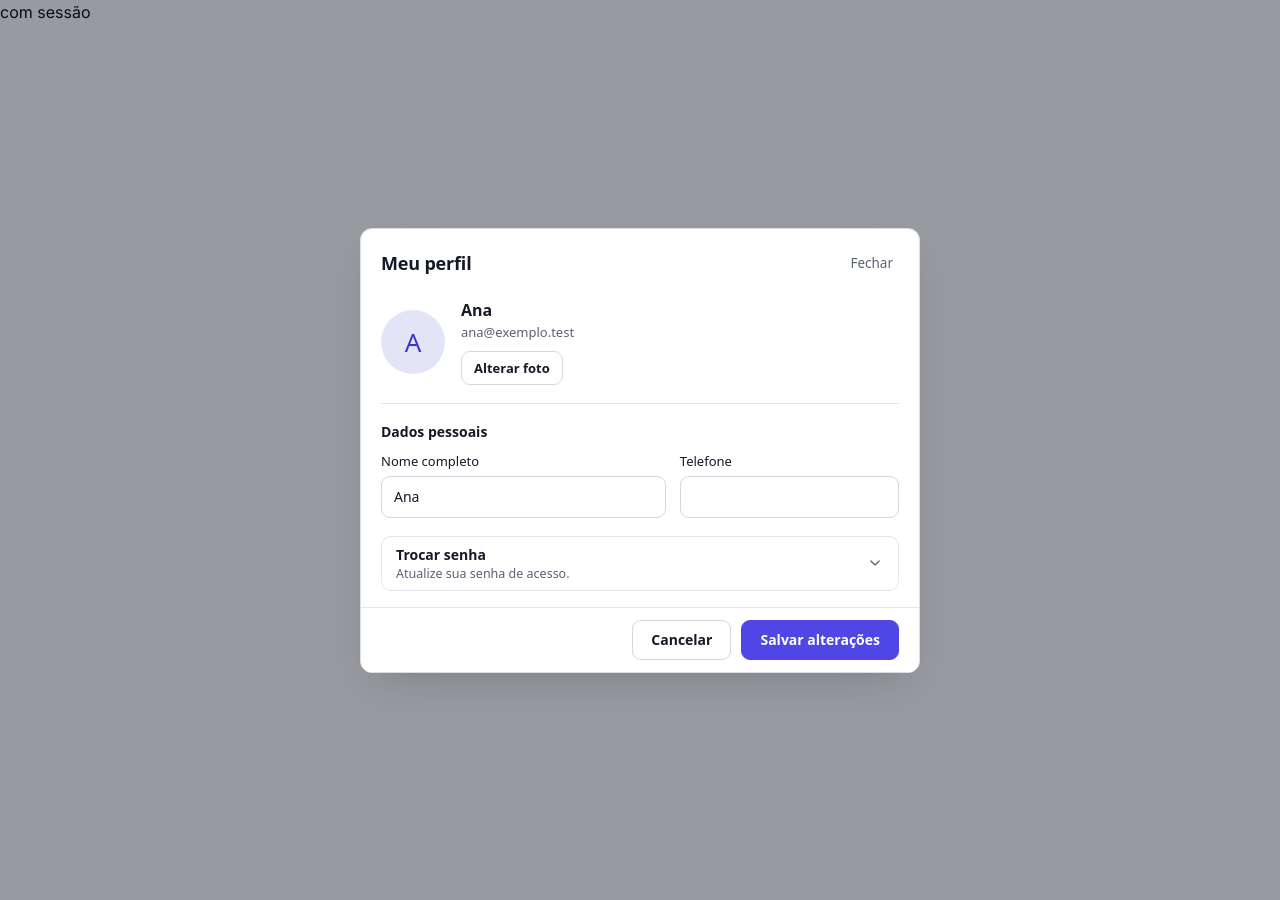
Scenario: trocar a senha com a senha atual errada (PRF-12) › mostra "A senha atual está incorreta." e a pessoa continua logada
The width and height of the screenshot is (1280, 900).
Check: the field showing "Ana" is shown, box [381,476,666,518]
Click the text "Atualize sua senha de acesso." at [483, 573], box [396,564,570,582]
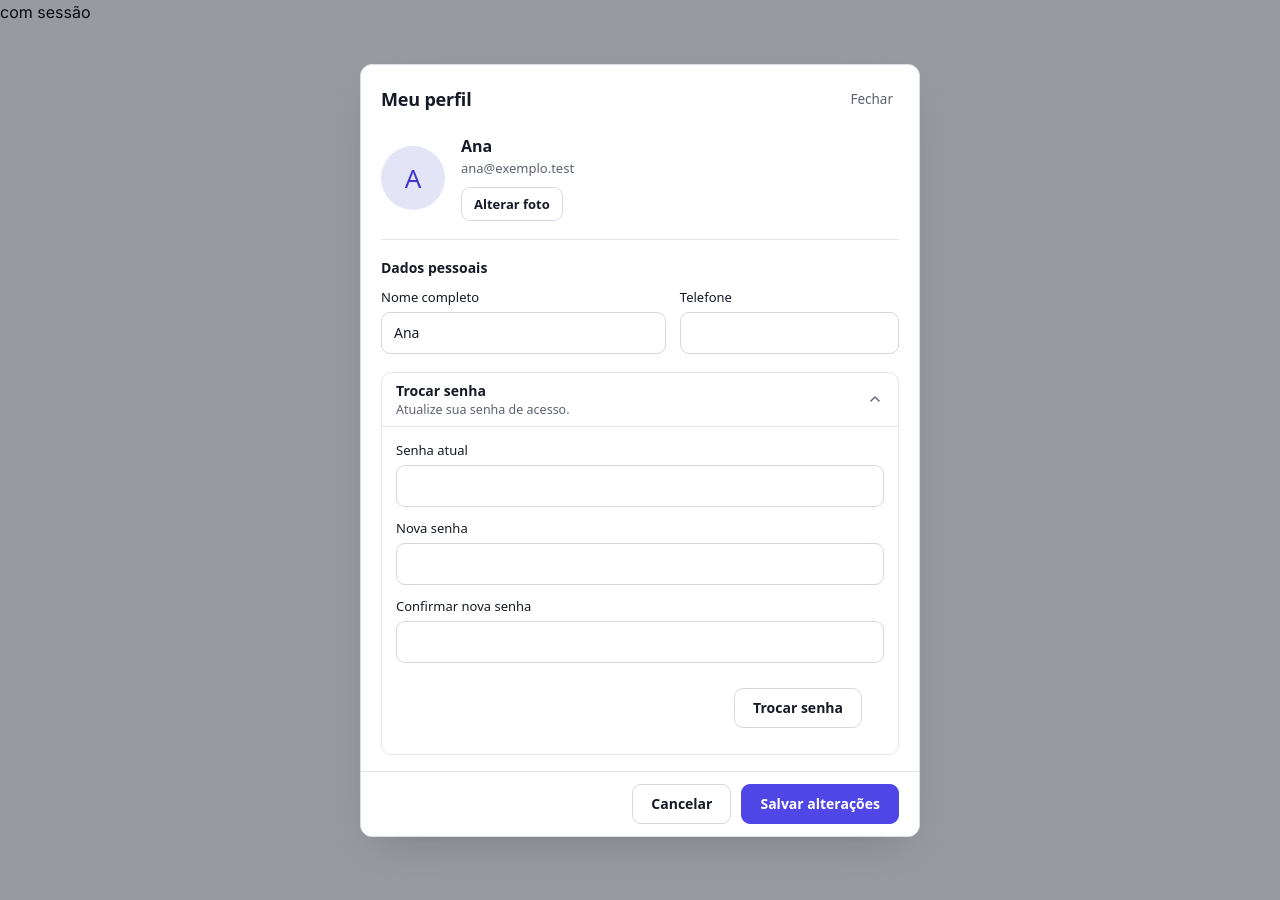
Type "errada123" into the password field labelled "Senha atual" at [640, 486], box [396,464,884,506]
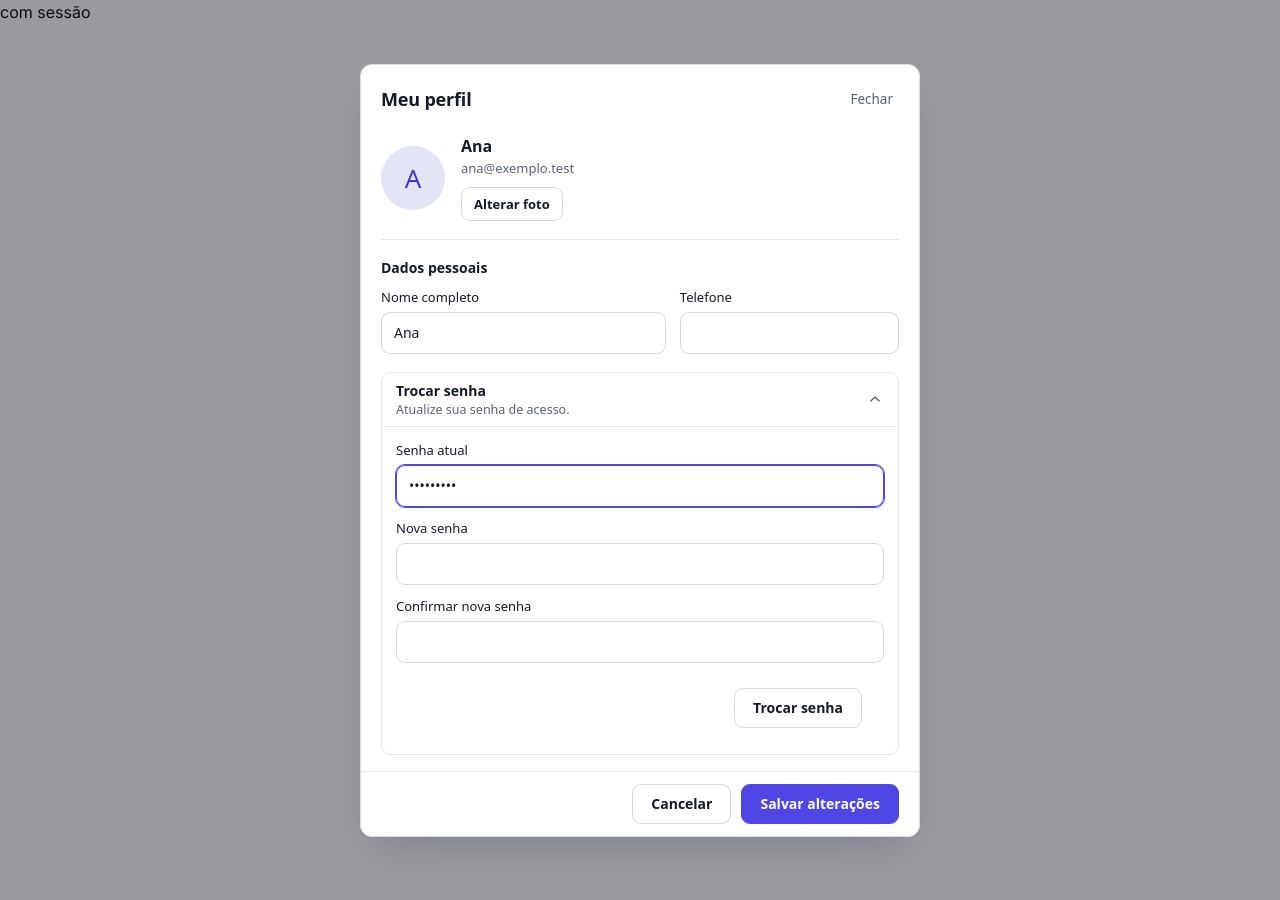
Type "nova12345" into the password field labelled "Nova senha" at [640, 564], box [396,542,884,584]
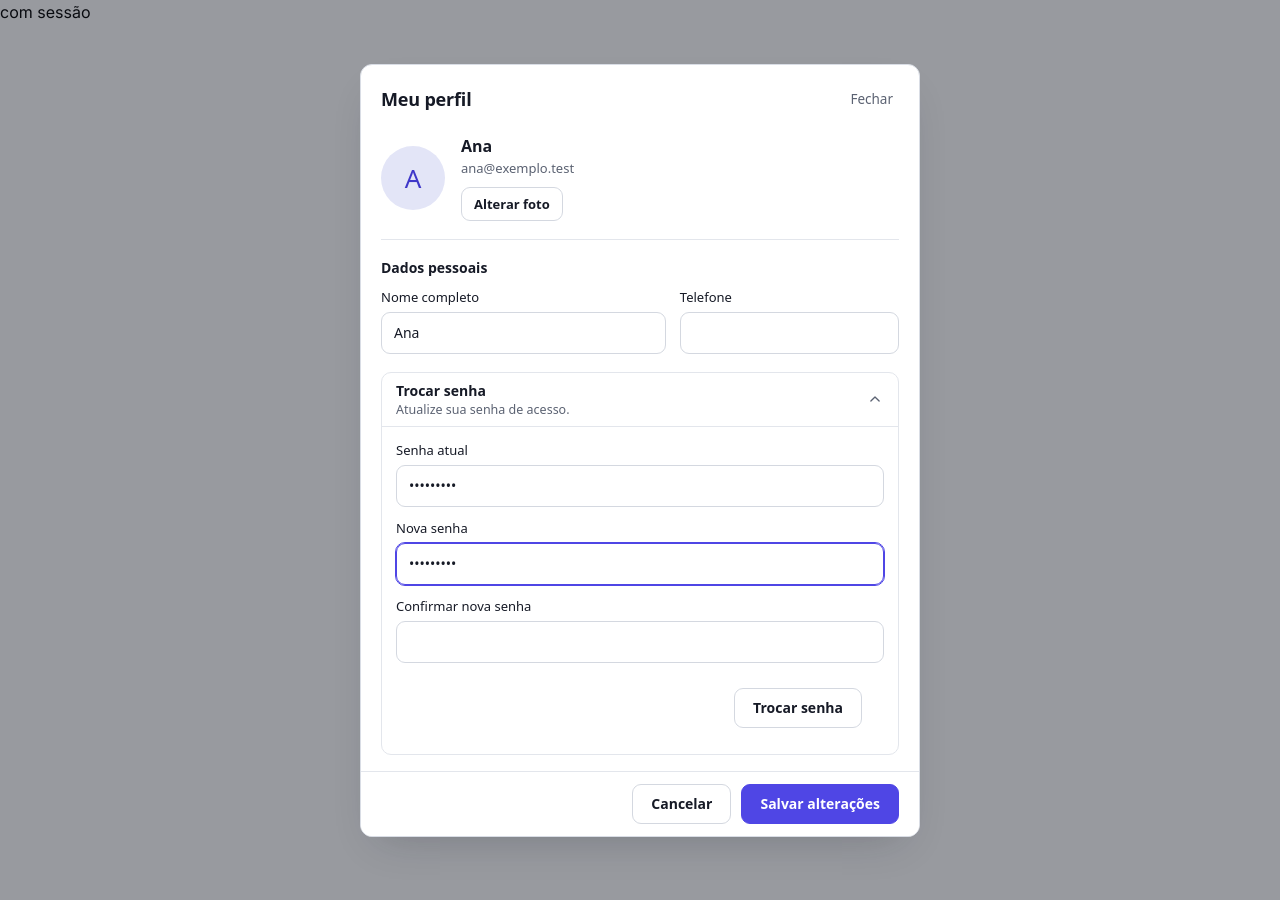
Type "nova12345" into the password field labelled "Confirmar nova senha" at [640, 642], box [396,620,884,662]
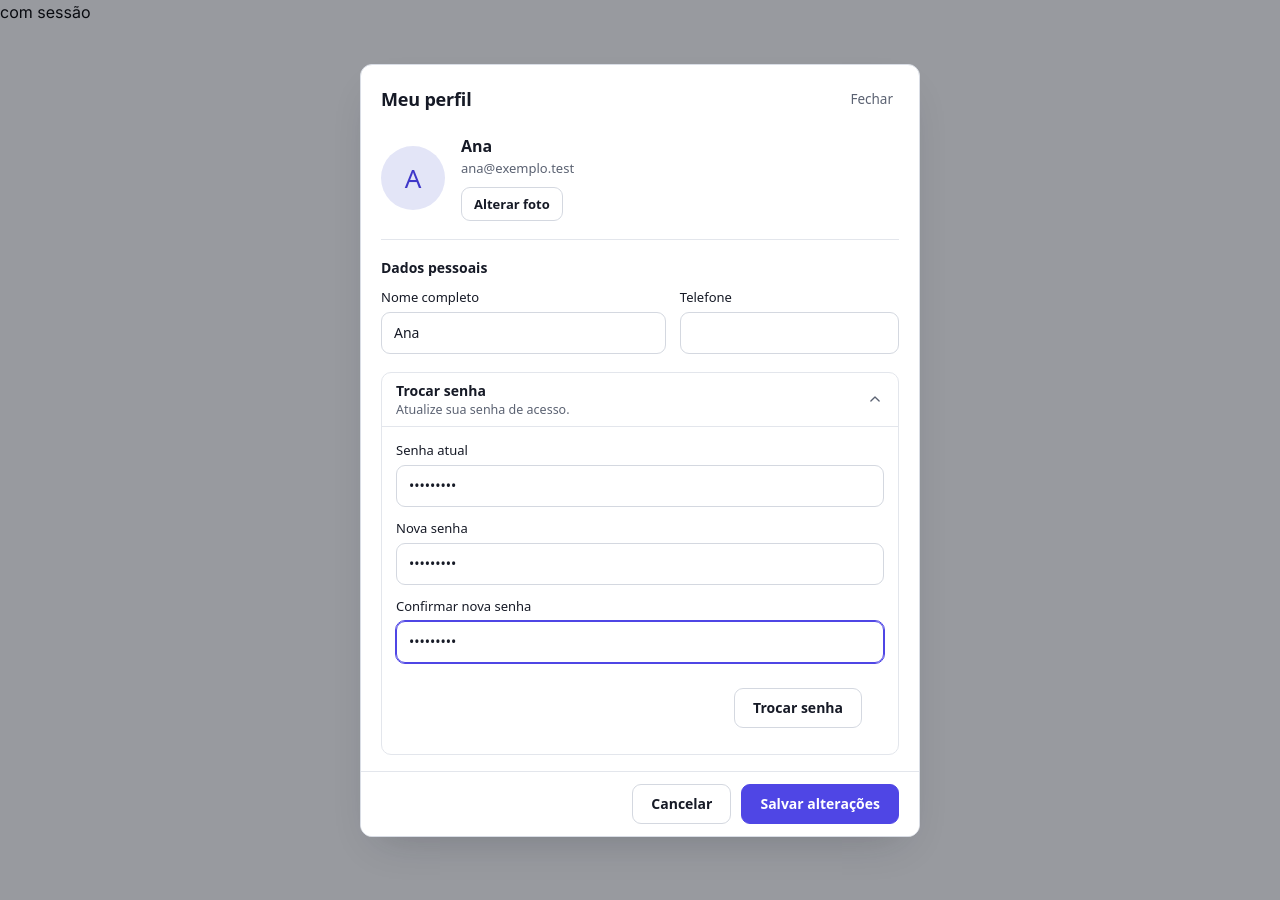
Click the button "Trocar senha" at [798, 708], box [734,688,862,728]
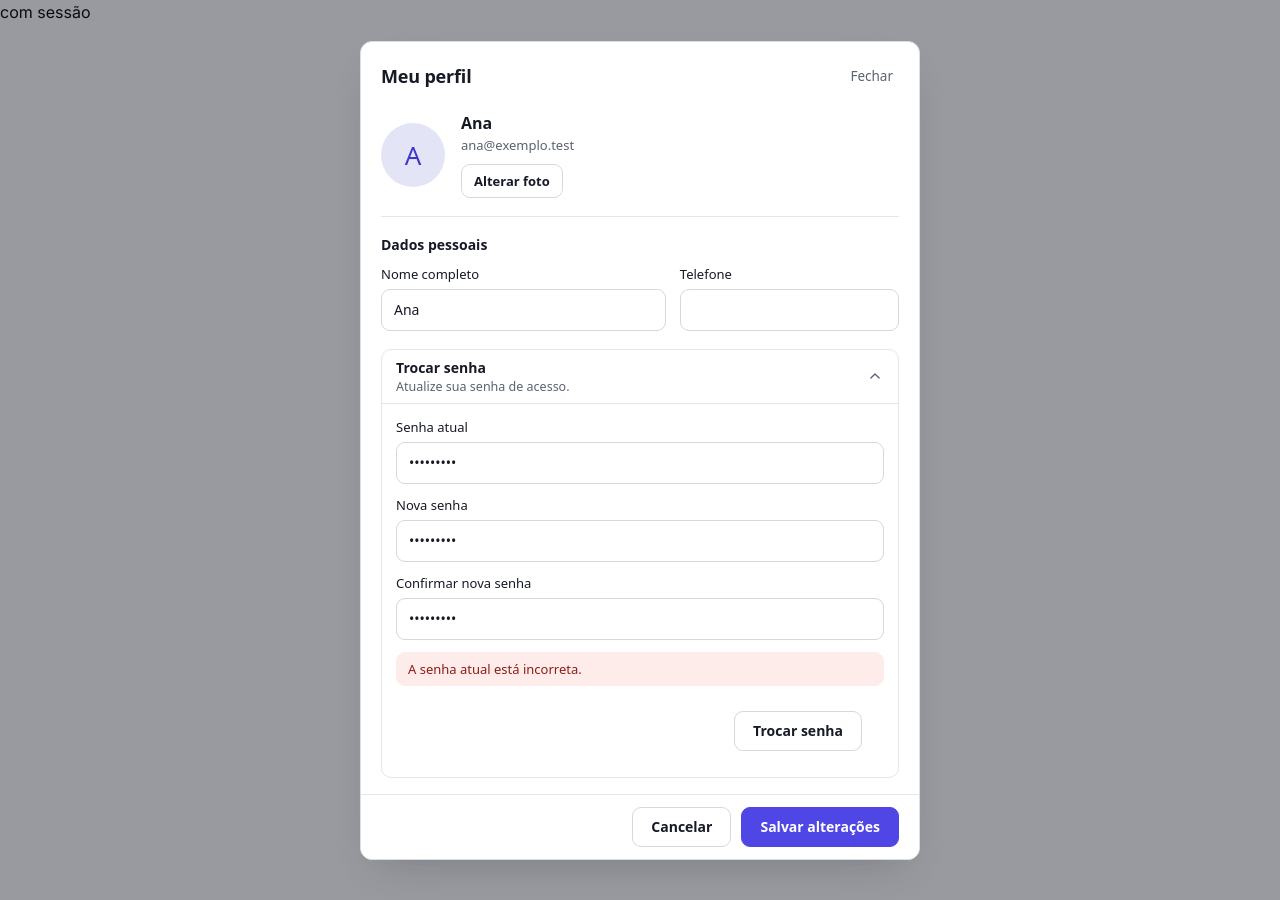
Check: the text with test id "sessao" reads "com sessão", box [0,2,90,22]
Check: the text "A senha atual está incorreta." is shown, box [396,652,884,686]
